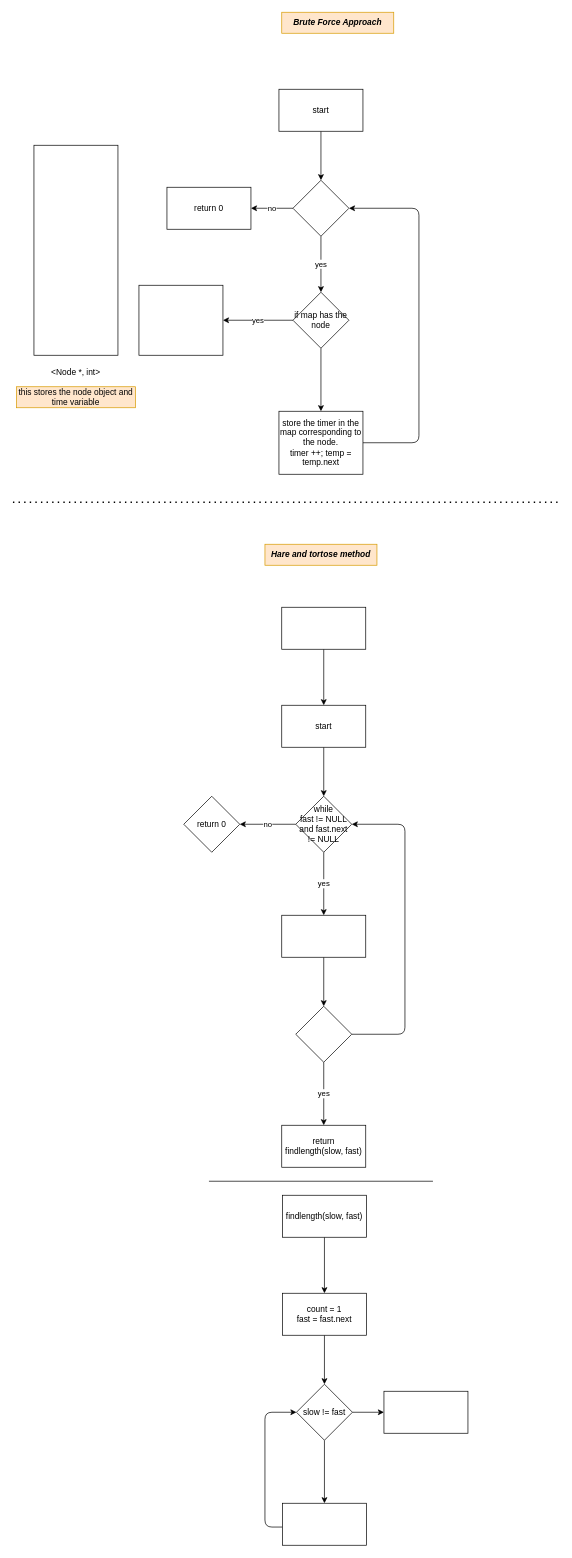
Image size: 572x1558. Some labels were removed from this diagram. The shapes that lost their labels are listed below. From the top down, each one's centre as x and y in pixels, then its label:
the point at 320,208: while temp ! = NILL
the point at 180,320: return the timer - value stored in the map corresponding to the node
the point at 323,628: slow = fast = head
the point at 323,936: slow = slow.next fast = fast.next
the point at 323,1034: if slow == fast
the point at 425,1412: return count
the point at 324,1524: count++; fast = fast.next
